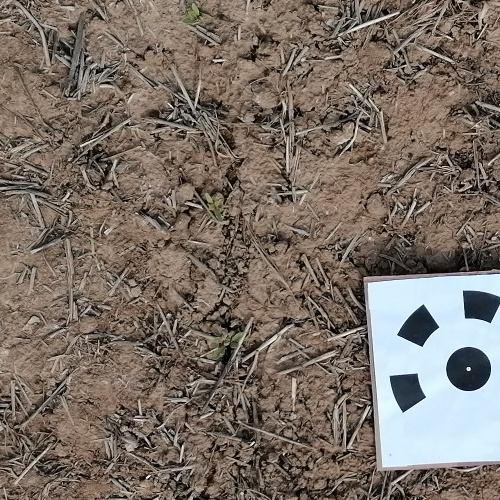beet: (215, 332, 248, 359), (208, 193, 223, 220)
